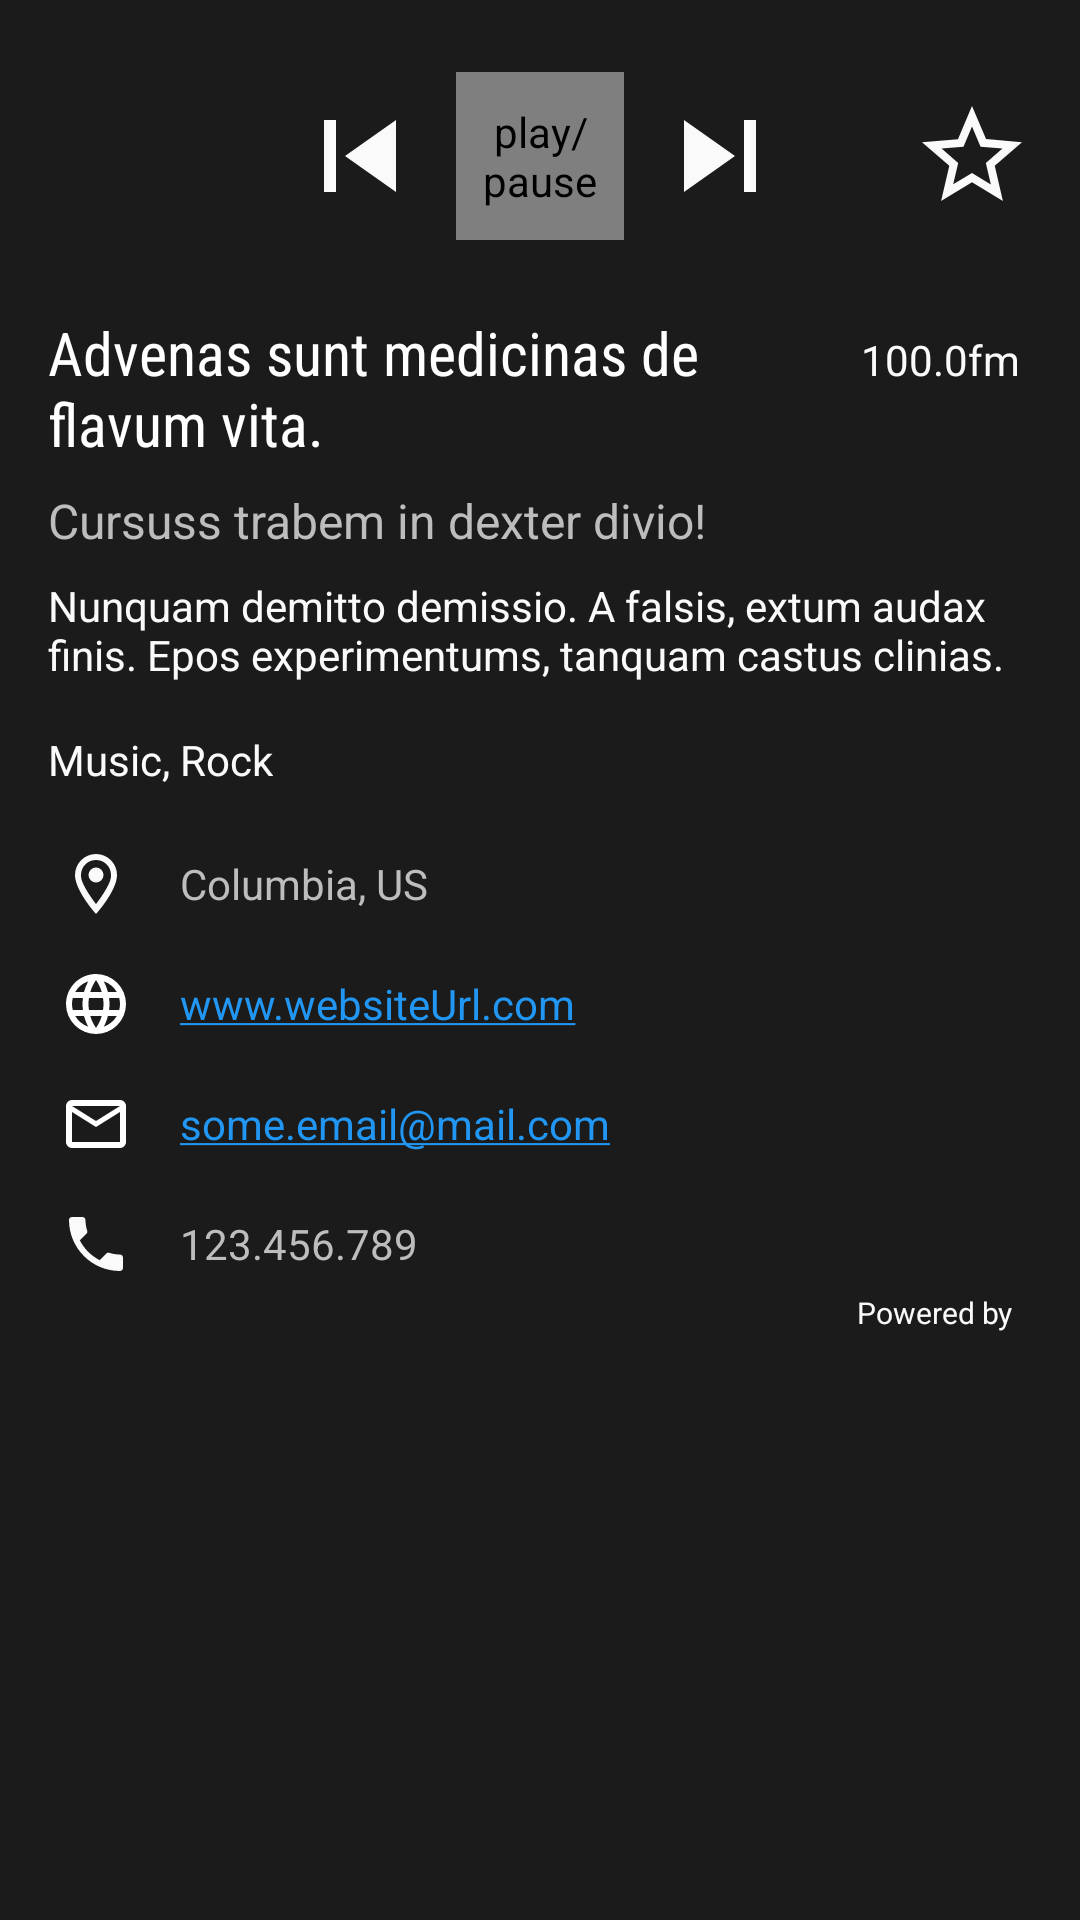

Screen size 1080*1920. Icon name, then its center in pixels as [x,y]:
add/remove favorite: [972,153]
skip next station: [720,156]
skip previous station: [360,156]
